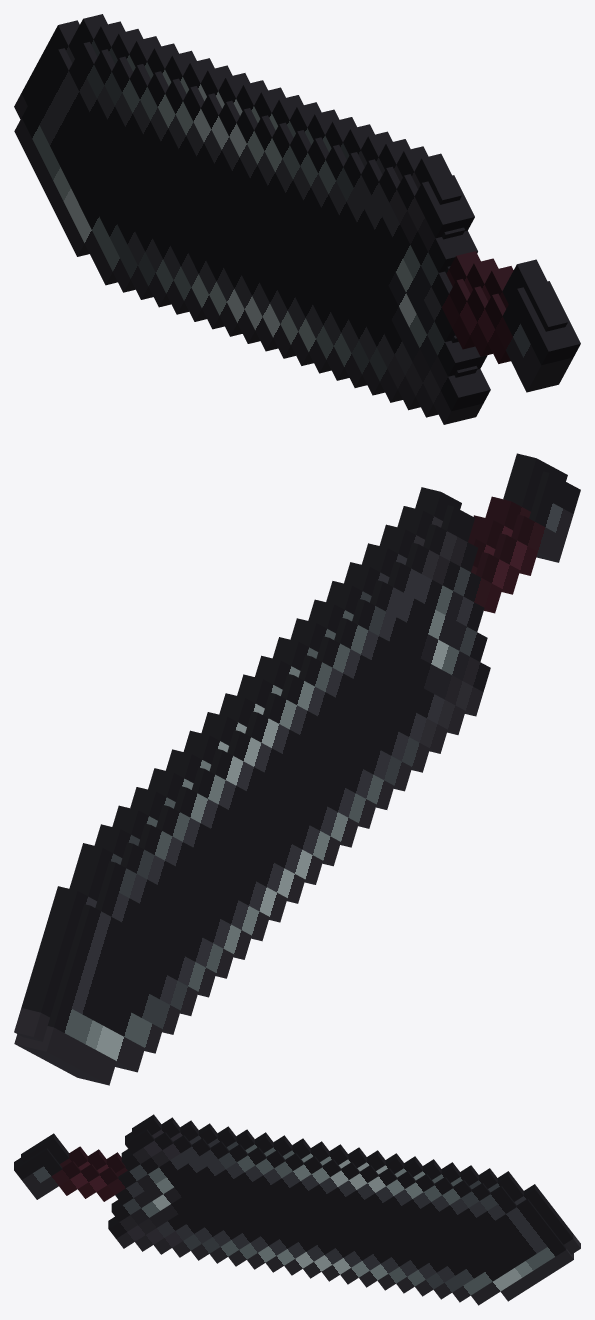
Rendered from titanium_greatsword.glb.
3 views of the same model, one above another, from view 1: azimuth 30°, elevation 25°; view 2: azimuth 150°, elevation 25°; view 3: azimuth 270°, elevation 25° (orthographic). The views are drawn at different scales.
Visible parts, largest first — view 1: main__Tool_R, off__Tool_L; view 2: main__Tool_R, off__Tool_L; view 3: main__Tool_R, off__Tool_L.
Part boxes in pixels (left/top/right/bottom): main__Tool_R: left=14, top=42, right=580, bottom=424; off__Tool_L: left=14, top=14, right=567, bottom=377; main__Tool_R: left=14, top=471, right=580, bottom=1085; off__Tool_L: left=14, top=453, right=567, bottom=1041; main__Tool_R: left=14, top=1129, right=573, bottom=1305; off__Tool_L: left=21, top=1114, right=580, bottom=1254.
Size of the model in its own units: 0.0875 by 0.9118 by 2.54.
Materials: 1 (1 with a texture image).
